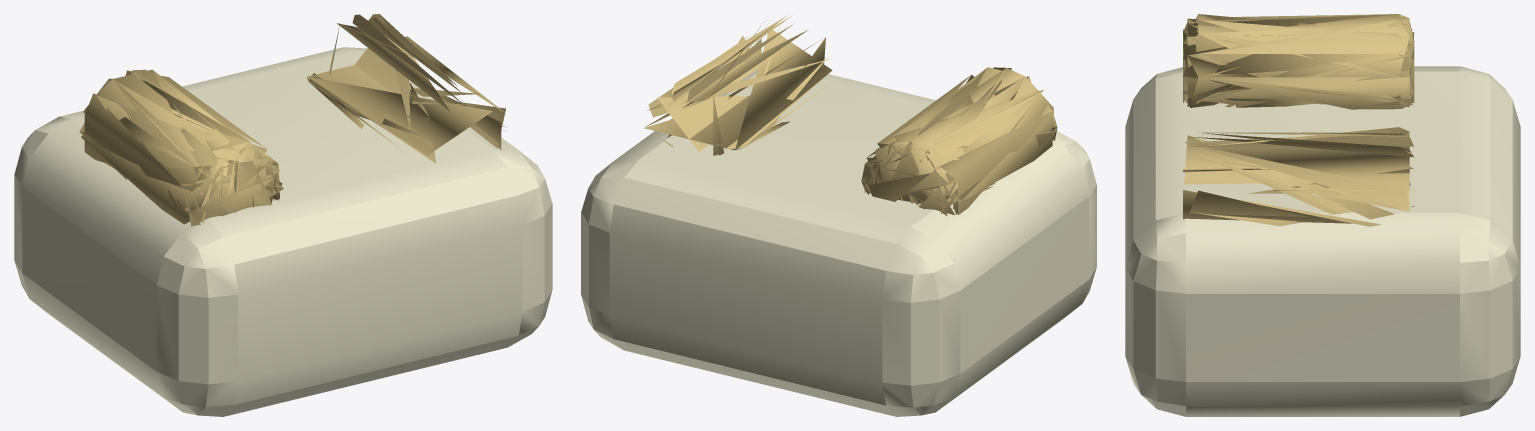
The model's file is kit_carrier.glb.
The picture shows the model from 3 angles, left to right: view 1: azimuth 30°, elevation 25°; view 2: azimuth 150°, elevation 25°; view 3: azimuth 270°, elevation 25°; orthographic projection. The views are drawn at different scales.
Visible parts, largest first — view 1: RepairTank, RepairCanister, RepairCanister.001; view 2: RepairTank, RepairCanister, RepairCanister.001; view 3: RepairTank, RepairCanister, RepairCanister.001.
Part boxes in pixels (x1,y1,x2,y2): RepairTank: (14, 47, 552, 416); RepairCanister: (79, 69, 283, 226); RepairCanister.001: (307, 14, 507, 163); RepairTank: (581, 69, 1096, 416); RepairCanister: (861, 67, 1057, 216); RepairCanister.001: (643, 15, 835, 155); RepairTank: (1125, 66, 1520, 416); RepairCanister: (1183, 14, 1414, 109); RepairCanister.001: (1183, 127, 1414, 226).
Size of the model in its own units: 0.75 by 0.48 by 0.65.
